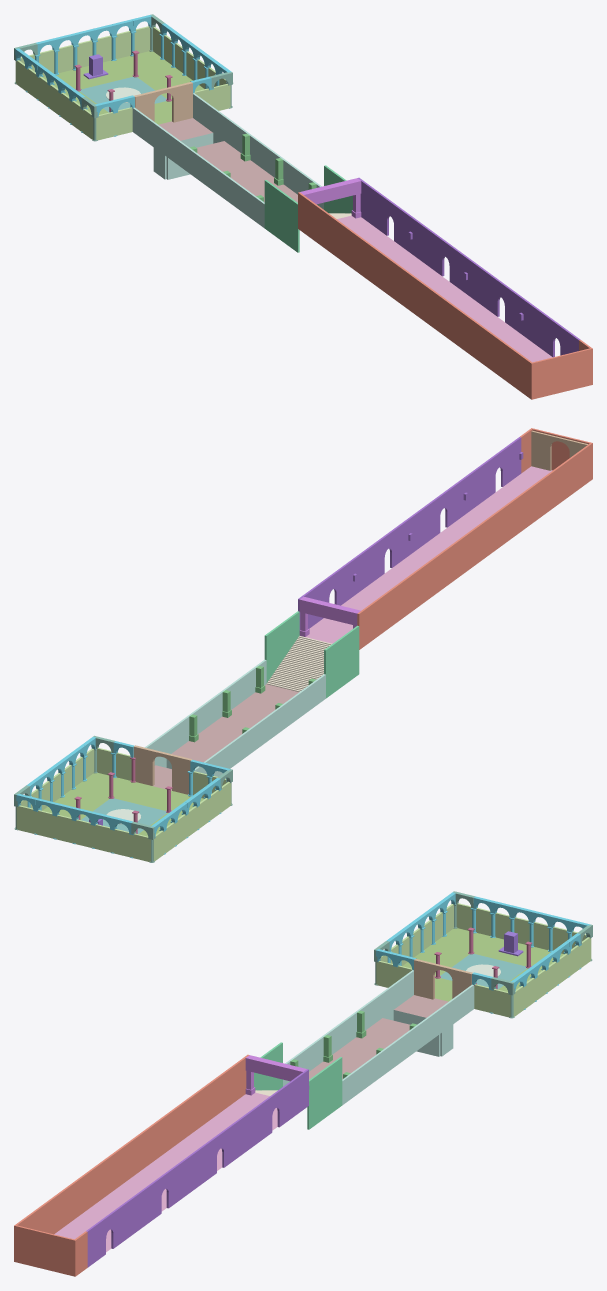
File: NewMap.FBX
3 views of the same model, one above another, from view 1: azimuth 30°, elevation 25°; view 2: azimuth 150°, elevation 25°; view 3: azimuth 330°, elevation 25° (orthographic).
Parts seen in each view (by area): view 1: wall_jail2, wall_jail3, wall_jail_102, wall_jail4, doorA_2, wall_jail7, wall_jail8, wall_jail6, pillar_jail_143, wall_stairs6, wall_stairs5, wall_stairs4 (+1 smaller); view 2: wall_jail3, wall_jail2, wall_jail4, wall_jail_102, doorA_2, doorA3_147, doorA2, pillar_jail_143, wall_stairs4, wall_stairs6, wall_stairs_63; view 3: wall_jail_102, wall_jail3, wall_jail2, wall_jail4, doorA2, wall_jail6, wall_jail7, wall_jail8, pillar_jail2, wall_stairs3, wall_stairs2, wall_stairs_63 (+2 smaller).
Boxes of the visible parts, x1,y1,x2,y2 form: wall_jail2: (412, 218, 469, 294); wall_jail3: (468, 258, 524, 335); wall_jail_102: (357, 177, 414, 254); wall_jail4: (523, 299, 580, 357); doorA_2: (162, 82, 192, 122); wall_jail7: (550, 353, 571, 394); wall_jail8: (531, 358, 552, 399); wall_jail6: (569, 348, 590, 389); pillar_jail_143: (329, 178, 361, 218); wall_stairs6: (286, 196, 299, 252); wall_stairs5: (275, 188, 287, 244); wall_stairs4: (264, 180, 276, 236); wall_jail3: (409, 477, 467, 553); wall_jail2: (353, 518, 412, 594); wall_jail4: (464, 437, 523, 513); wall_jail_102: (298, 558, 357, 630); doorA_2: (133, 745, 163, 785); doorA3_147: (531, 430, 560, 470); doorA2: (162, 752, 192, 794); pillar_jail_143: (299, 597, 331, 636); wall_stairs4: (324, 642, 336, 698); wall_stairs6: (346, 625, 359, 682); wall_stairs_63: (264, 627, 277, 682); wall_jail_102: (252, 1069, 309, 1145); wall_jail3: (141, 1150, 198, 1226); wall_jail2: (197, 1109, 253, 1186); wall_jail4: (86, 1191, 142, 1267); doorA2: (414, 959, 444, 999); wall_jail6: (52, 1234, 73, 1275); wall_jail7: (33, 1229, 54, 1271); wall_jail8: (14, 1225, 34, 1266); pillar_jail2: (245, 1055, 277, 1095); wall_stairs3: (307, 1073, 320, 1129); wall_stairs2: (319, 1065, 331, 1121); wall_stairs_63: (330, 1057, 342, 1113).
Size of what is drawn, in the model's own units: 3637 by 21618 by 2100.
